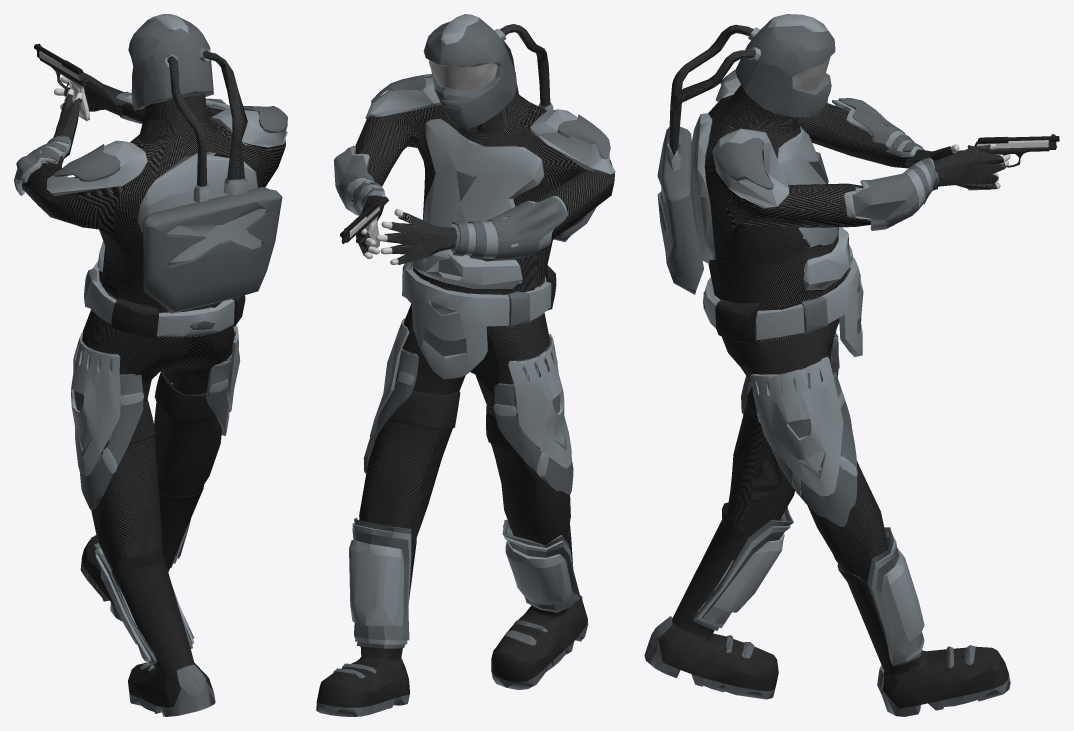
The picture shows the model from 3 angles, left to right: view 1: azimuth 30°, elevation 25°; view 2: azimuth 150°, elevation 25°; view 3: azimuth 270°, elevation 25°; orthographic projection. The views are drawn at different scales.
Parts seen in each view (by area): view 1: personajeskefix:personaje:extrudedSurface2 polySurface94, personajeskefix:personaje:PANTALON polySurface94, personajeskefix:personaje:CAMISETABUENA polySurface94, personajeskefix:personaje:bota1 polySurface94, personajeskefix:personaje:pPipe4 polySurface94, personajeskefix:personaje:cosoarmdaurapierna1 polySurface94, personajeskefix:personaje:cinturon polySurface94, personajeskefix:personaje:pCube4 polySurface94, personajeskefix:personaje:polySurface6 polySurface94, personajeskefix:personaje:HOMBRO2 polySurface94, personajeskefix:personaje:polySurface11 polySurface94, pistola:Cylinder001 polySurface94 (+5 smaller); view 2: personajeskefix:personaje:pPipe4 polySurface94, personajeskefix:personaje:PANTALON polySurface94, personajeskefix:personaje:CAMISETABUENA polySurface94, personajeskefix:personaje:bota1 polySurface94, personajeskefix:personaje:cinturon polySurface94, personajeskefix:personaje:armadbota1 polySurface94, personajeskefix:personaje:pCube4 polySurface94, personajeskefix:personaje:extrudedSurface2 polySurface94, personajeskefix:personaje:cosoarmdaurapierna1 polySurface94, personajeskefix:personaje:polySurface2 polySurface94, personajeskefix:personaje:polySurface6 polySurface94, personajeskefix:personaje:gafas polySurface94 (+8 smaller); view 3: personajeskefix:personaje:CAMISETABUENA polySurface94, personajeskefix:personaje:bota1 polySurface94, personajeskefix:personaje:pPipe4 polySurface94, personajeskefix:personaje:extrudedSurface2 polySurface94, personajeskefix:personaje:PANTALON polySurface94, personajeskefix:personaje:pCube4 polySurface94, personajeskefix:personaje:cinturon polySurface94, personajeskefix:personaje:armadbota1 polySurface94, personajeskefix:personaje:cosoarmadurapierna2 polySurface94, personajeskefix:personaje:hombro1 polySurface94, pistola:Cylinder001 polySurface94, personajeskefix:personaje:polySurface2 polySurface94 (+4 smaller).
Boxes of the visible parts, x1,y1,x2,y2 form: personajeskefix:personaje:extrudedSurface2 polySurface94: [128, 14, 282, 313]; personajeskefix:personaje:PANTALON polySurface94: [82, 285, 234, 595]; personajeskefix:personaje:CAMISETABUENA polySurface94: [21, 94, 285, 337]; personajeskefix:personaje:bota1 polySurface94: [80, 486, 215, 716]; personajeskefix:personaje:pPipe4 polySurface94: [42, 72, 287, 270]; personajeskefix:personaje:cosoarmdaurapierna1 polySurface94: [71, 332, 144, 476]; personajeskefix:personaje:cinturon polySurface94: [84, 261, 245, 338]; personajeskefix:personaje:pCube4 polySurface94: [74, 307, 240, 664]; personajeskefix:personaje:polySurface6 polySurface94: [129, 371, 216, 444]; personajeskefix:personaje:HOMBRO2 polySurface94: [54, 144, 120, 181]; personajeskefix:personaje:polySurface11 polySurface94: [167, 56, 206, 186]; pistola:Cylinder001 polySurface94: [34, 43, 89, 120]; personajeskefix:personaje:pPipe4 polySurface94: [333, 77, 615, 288]; personajeskefix:personaje:PANTALON polySurface94: [359, 281, 570, 545]; personajeskefix:personaje:CAMISETABUENA polySurface94: [351, 65, 614, 322]; personajeskefix:personaje:bota1 polySurface94: [316, 525, 588, 716]; personajeskefix:personaje:cinturon polySurface94: [402, 259, 556, 379]; personajeskefix:personaje:armadbota1 polySurface94: [349, 523, 574, 644]; personajeskefix:personaje:pCube4 polySurface94: [352, 318, 579, 648]; personajeskefix:personaje:extrudedSurface2 polySurface94: [423, 14, 596, 241]; personajeskefix:personaje:cosoarmdaurapierna1 polySurface94: [493, 334, 571, 477]; personajeskefix:personaje:polySurface2 polySurface94: [452, 197, 566, 260]; personajeskefix:personaje:polySurface6 polySurface94: [389, 390, 517, 453]; personajeskefix:personaje:gafas polySurface94: [428, 60, 497, 92]; personajeskefix:personaje:CAMISETABUENA polySurface94: [704, 84, 918, 341]; personajeskefix:personaje:bota1 polySurface94: [644, 502, 1010, 716]; personajeskefix:personaje:pPipe4 polySurface94: [691, 75, 1005, 290]; personajeskefix:personaje:extrudedSurface2 polySurface94: [657, 14, 835, 294]; personajeskefix:personaje:PANTALON polySurface94: [721, 274, 888, 603]; personajeskefix:personaje:pCube4 polySurface94: [693, 332, 923, 666]; personajeskefix:personaje:cinturon polySurface94: [703, 247, 863, 356]; personajeskefix:personaje:armadbota1 polySurface94: [696, 512, 924, 665]; personajeskefix:personaje:cosoarmadurapierna2 polySurface94: [752, 371, 857, 526]; personajeskefix:personaje:hombro1 polySurface94: [718, 137, 773, 189]; pistola:Cylinder001 polySurface94: [967, 134, 1059, 190]; personajeskefix:personaje:polySurface2 polySurface94: [838, 98, 924, 151].
Bounding box in the file's own units: 3.65 × 9.61 × 5.21.
